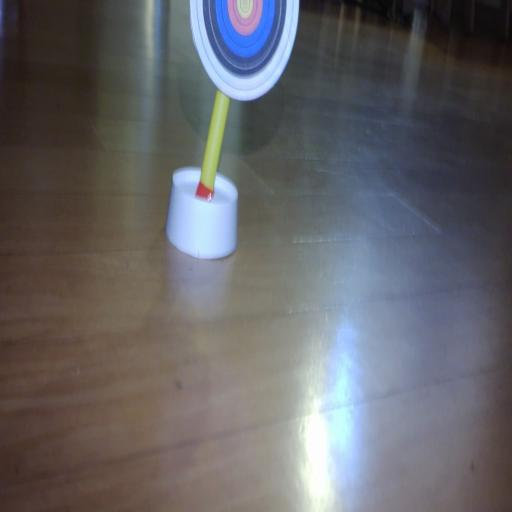target: (190, 0, 298, 100)
